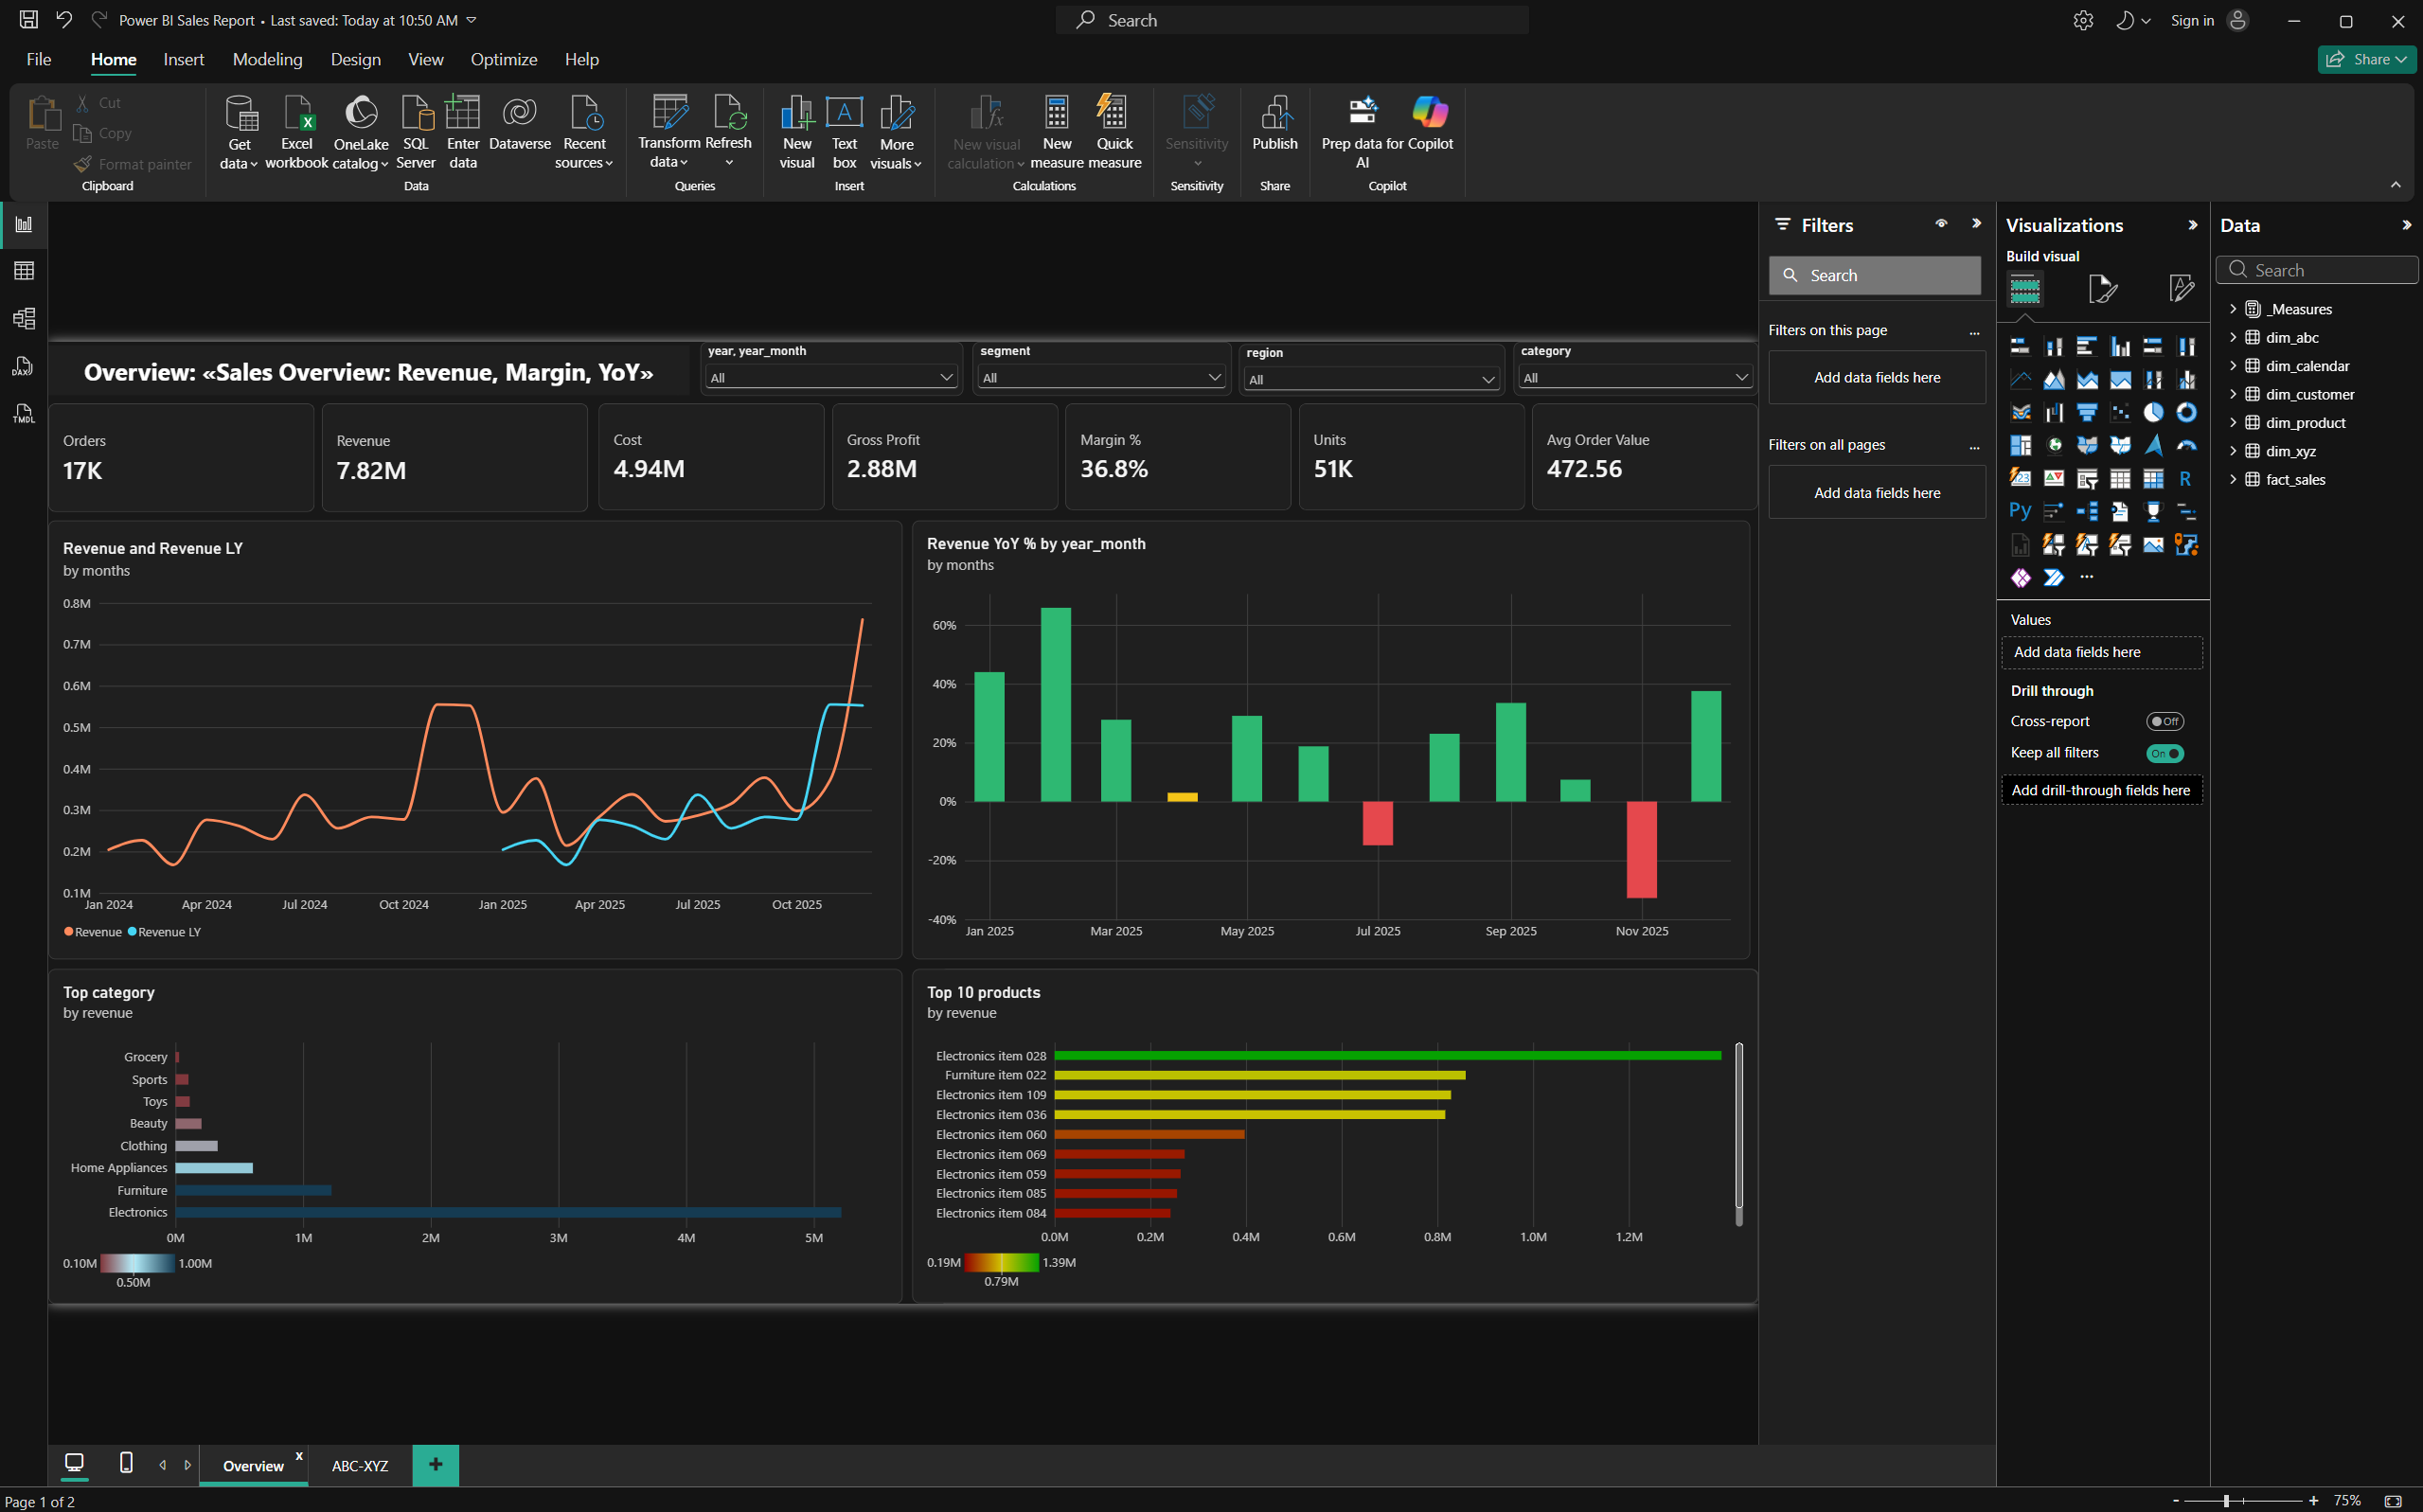

The dashboard page shown, as its layout file describes it:
{"tool":"powerbi","page":{"name":"Overview","canvas":[1920,1080],"ordinal":0},"visuals":[{"type":"cardVisual","fields":{"Data":["_Measures.Orders","_Measures.Revenue"]},"box":[0,68.6,607.6,122.1],"z":0},{"type":"cardVisual","fields":{"Data":["_Measures.Cost","_Measures.Gross Profit","_Measures.Margin %","_Measures.Units","_Measures.Avg Order Value"]},"box":[617.9,69.1,1302.3,120.9],"z":1000},{"type":"lineChart","title":"Revenue and Revenue LY","fields":{"Category":["dim_calendar.year_month"],"Y":["_Measures.Revenue","_Measures.Revenue LY"]},"box":[0,200.3,959.5,493],"z":2000},{"type":"clusteredColumnChart","fields":{"Category":["dim_calendar.year_month"],"Y":["_Measures.Revenue YoY %"]},"box":[970.2,200.4,940.9,493],"z":3000},{"type":"clusteredBarChart","title":"Top category","fields":{"Category":["dim_product.category"],"Y":["_Measures.Revenue"]},"box":[0,704.3,959.5,376.1],"z":4000},{"type":"clusteredBarChart","fields":{"Category":["dim_product.category"],"Y":["_Measures.Revenue"]},"box":[1000.7,704.3,919.6,376.1],"z":5000},{"type":"clusteredBarChart","title":"Top 10 products","fields":{"Category":["dim_product.product_name"],"Y":["_Measures.Revenue"]},"box":[970.4,704.9,949.9,375.4],"z":6000},{"type":"slicer","fields":{"Values":["dim_product.category"]},"box":[1644.5,0,275.5,60.9],"z":7000},{"type":"slicer","fields":{"Values":["dim_customer.region"]},"box":[1337.3,2.7,299.1,58.2],"z":8000},{"type":"slicer","fields":{"Values":["dim_customer.segment"]},"box":[1037.3,0,290.9,60.9],"z":9000},{"type":"slicer","fields":{"Values":["dim_calendar.year","dim_calendar.year_month"]},"box":[732.7,0,295.5,60.9],"z":10000},{"type":"shape","box":[0,4.1,720.1,56.2],"z":11000}]}

Visuals, with their boxes on the page's 1920x1080 design canvas (x1, y1, x2, y2). These are canvas units, not pixel positions in the 2423x1512 screenshot, which may show the page scaled, cropped or inside an application window:
cardVisual - _Measures.Orders x _Measures.Revenue: (x1=0, y1=69, x2=608, y2=191)
cardVisual - _Measures.Cost x _Measures.Gross Profit: (x1=618, y1=69, x2=1920, y2=190)
"Revenue and Revenue LY" lineChart: (x1=0, y1=200, x2=960, y2=693)
clusteredColumnChart - dim_calendar.year_month x _Measures.Revenue YoY %: (x1=970, y1=200, x2=1911, y2=693)
"Top category" clusteredBarChart: (x1=0, y1=704, x2=960, y2=1080)
clusteredBarChart - dim_product.category x _Measures.Revenue: (x1=1001, y1=704, x2=1920, y2=1080)
"Top 10 products" clusteredBarChart: (x1=970, y1=705, x2=1920, y2=1080)
slicer - dim_product.category: (x1=1644, y1=0, x2=1920, y2=61)
slicer - dim_customer.region: (x1=1337, y1=3, x2=1636, y2=61)
slicer - dim_customer.segment: (x1=1037, y1=0, x2=1328, y2=61)
slicer - dim_calendar.year x dim_calendar.year_month: (x1=733, y1=0, x2=1028, y2=61)
shape: (x1=0, y1=4, x2=720, y2=60)
